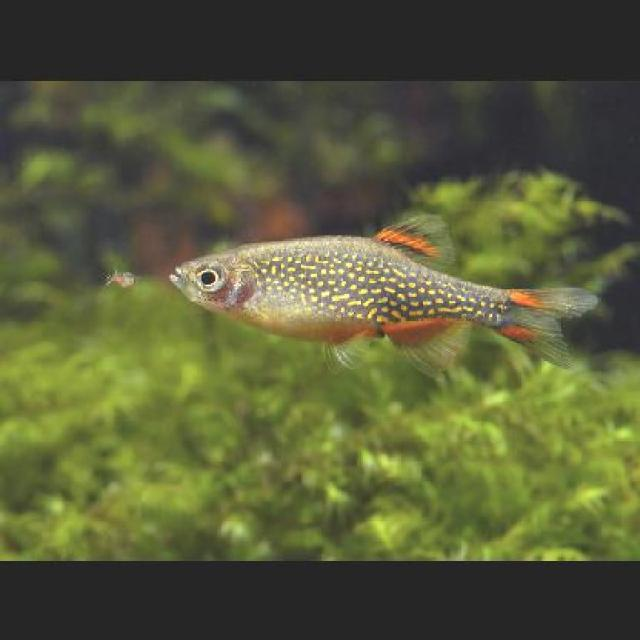ZebraFish: (164, 205, 596, 373)
